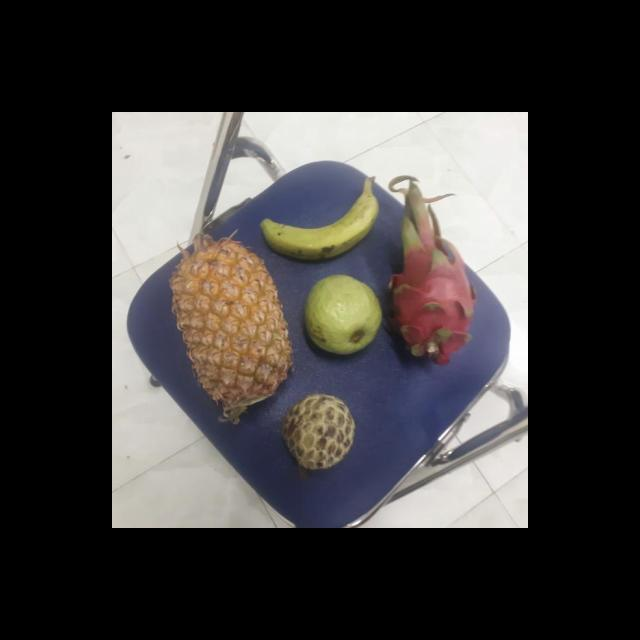Sakya fruit: (278, 392, 356, 470)
banana: (258, 186, 376, 262)
guava: (300, 274, 382, 354)
pineapple: (165, 238, 292, 414)
pitaya: (382, 222, 476, 361)
